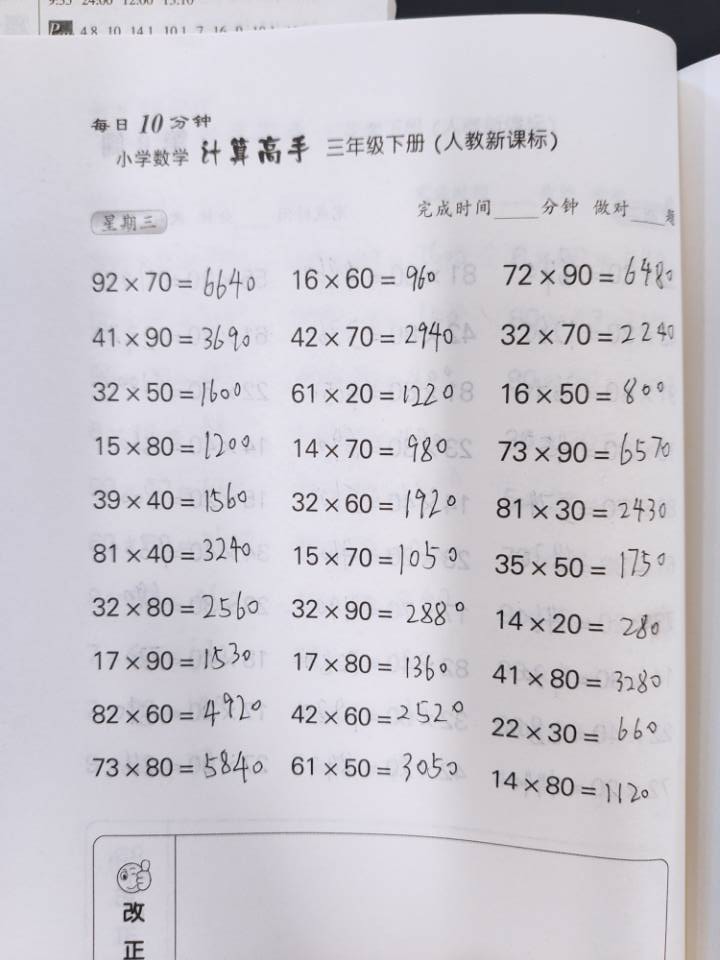equation: (314, 341, 357, 589), (232, 39, 272, 300), (188, 44, 227, 311), (553, 597, 594, 849), (361, 40, 399, 311), (229, 609, 269, 860), (276, 329, 316, 580), (398, 323, 437, 580), (319, 40, 355, 312), (436, 597, 475, 844), (404, 48, 440, 315), (190, 357, 233, 575), (277, 48, 312, 311), (575, 68, 611, 317), (556, 337, 592, 580), (476, 615, 513, 849), (361, 333, 395, 583), (515, 605, 548, 861), (393, 619, 430, 847), (483, 324, 514, 593), (193, 607, 226, 859), (439, 335, 473, 579), (236, 335, 269, 584), (451, 72, 485, 311), (520, 323, 551, 584), (316, 615, 350, 847), (530, 65, 560, 313), (491, 67, 521, 313), (277, 616, 307, 851), (360, 623, 390, 851)
